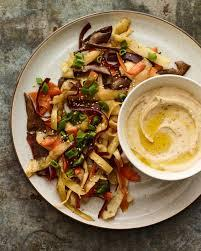Organic: (28, 15, 201, 227)
